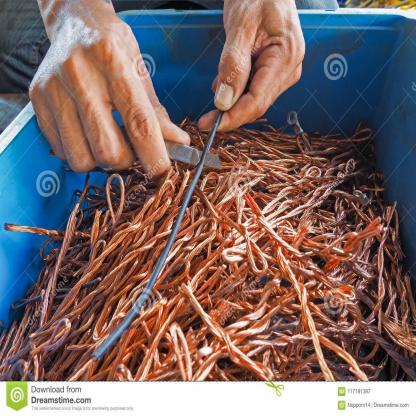wires: (0, 119, 415, 381), (68, 109, 224, 379)
